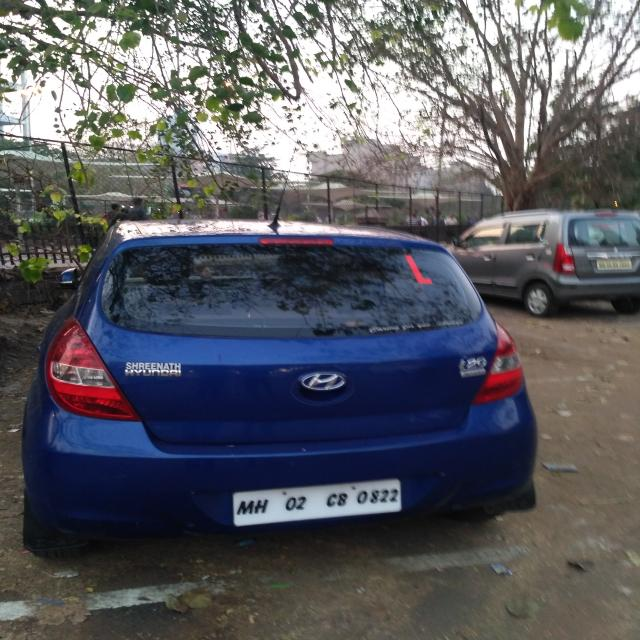Number-Plate: (236, 482, 399, 522)
